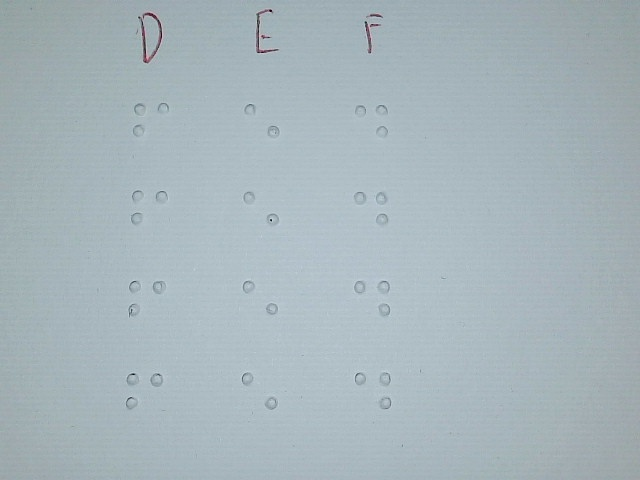D: (353, 88, 391, 164), (352, 174, 390, 250), (353, 262, 391, 338), (354, 354, 392, 430)
E: (242, 88, 282, 161), (241, 174, 281, 247), (240, 262, 280, 335), (239, 353, 279, 426)
F: (124, 355, 165, 432), (127, 262, 168, 339), (129, 173, 170, 250), (130, 86, 171, 163)
